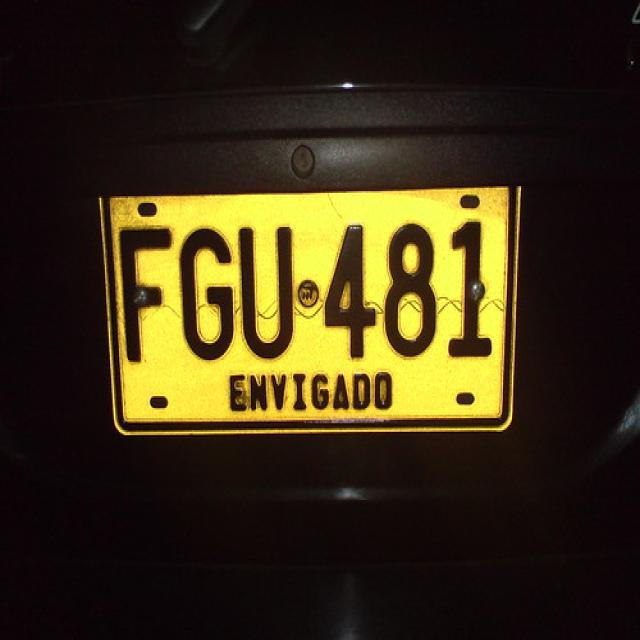placas: (105, 203, 503, 375)
